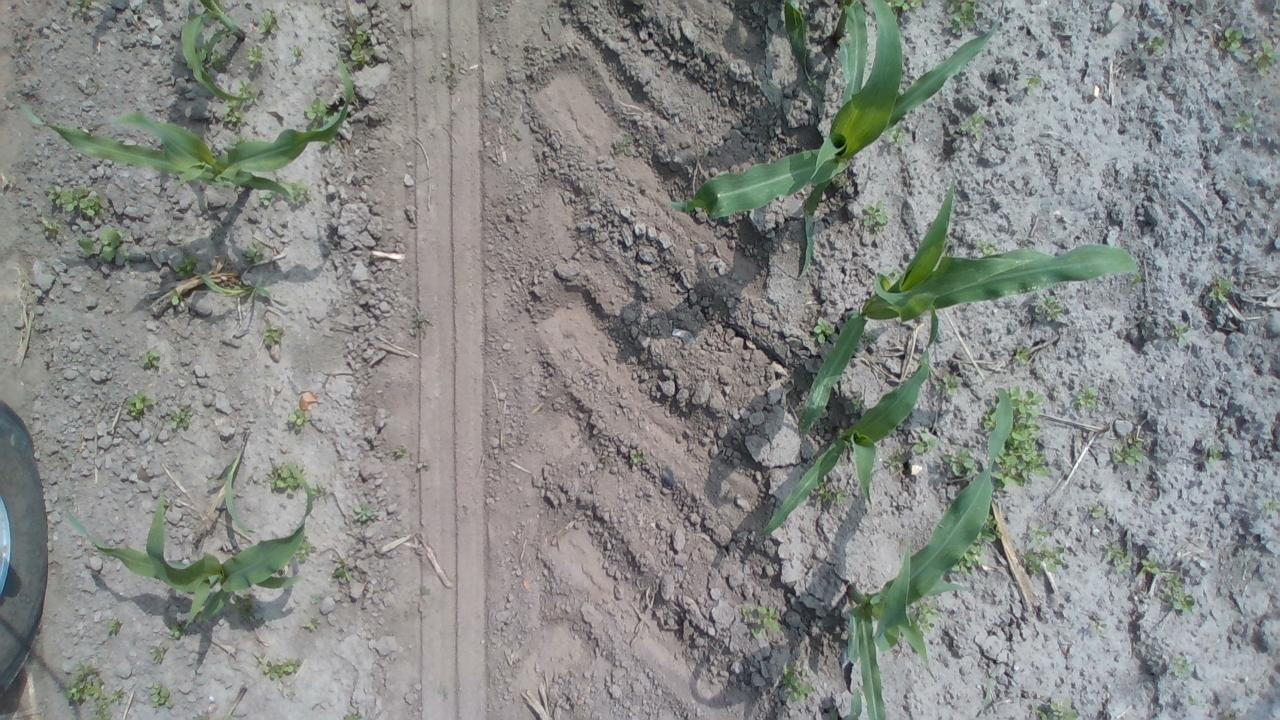Maize: (665, 1, 1007, 280), (790, 185, 1144, 443), (823, 381, 1017, 720), (8, 56, 372, 216), (63, 476, 334, 652), (754, 306, 944, 546), (180, 0, 266, 114)
Weeds: (985, 384, 1048, 481), (64, 658, 130, 720), (1138, 550, 1198, 616), (953, 510, 1001, 578), (1216, 26, 1278, 78), (1018, 526, 1074, 580), (42, 180, 110, 222), (768, 658, 818, 704), (78, 225, 134, 266), (940, 0, 991, 39), (901, 594, 948, 635), (266, 456, 316, 492), (258, 178, 313, 210), (345, 27, 382, 72), (738, 606, 783, 640), (1220, 101, 1262, 137), (1032, 292, 1076, 326), (1112, 432, 1148, 472), (1098, 539, 1136, 576), (940, 446, 980, 481), (859, 197, 896, 234), (1030, 696, 1088, 719), (260, 655, 304, 685), (1202, 274, 1238, 310), (234, 592, 266, 632), (956, 108, 988, 144), (298, 100, 332, 132), (404, 305, 434, 341), (190, 47, 233, 72), (1072, 385, 1104, 417), (230, 247, 266, 274), (166, 398, 192, 435), (145, 682, 177, 712), (883, 0, 922, 24), (908, 428, 938, 458), (256, 326, 288, 354), (286, 405, 313, 438), (814, 485, 849, 510), (218, 104, 250, 131), (34, 216, 64, 244), (128, 394, 158, 422), (230, 84, 268, 106), (1142, 29, 1168, 61), (137, 350, 166, 378), (1170, 658, 1198, 686), (839, 392, 868, 419), (258, 10, 284, 40), (811, 314, 837, 344), (938, 376, 964, 405), (354, 499, 380, 527), (244, 44, 270, 72), (1022, 74, 1052, 98), (293, 534, 316, 565), (884, 124, 911, 150), (1199, 440, 1228, 464), (1084, 502, 1110, 527), (146, 641, 171, 666), (1010, 345, 1035, 370), (1166, 322, 1190, 348), (886, 452, 914, 474), (174, 255, 203, 276), (68, 0, 100, 19), (165, 616, 188, 642), (330, 558, 355, 581), (611, 134, 634, 158), (1263, 496, 1280, 522), (290, 46, 310, 67), (1088, 618, 1108, 638), (387, 442, 407, 461), (624, 448, 645, 466), (165, 288, 182, 308), (979, 238, 1000, 254), (107, 618, 121, 638), (1184, 692, 1200, 708), (340, 712, 370, 720), (306, 620, 324, 632), (308, 588, 324, 601)
